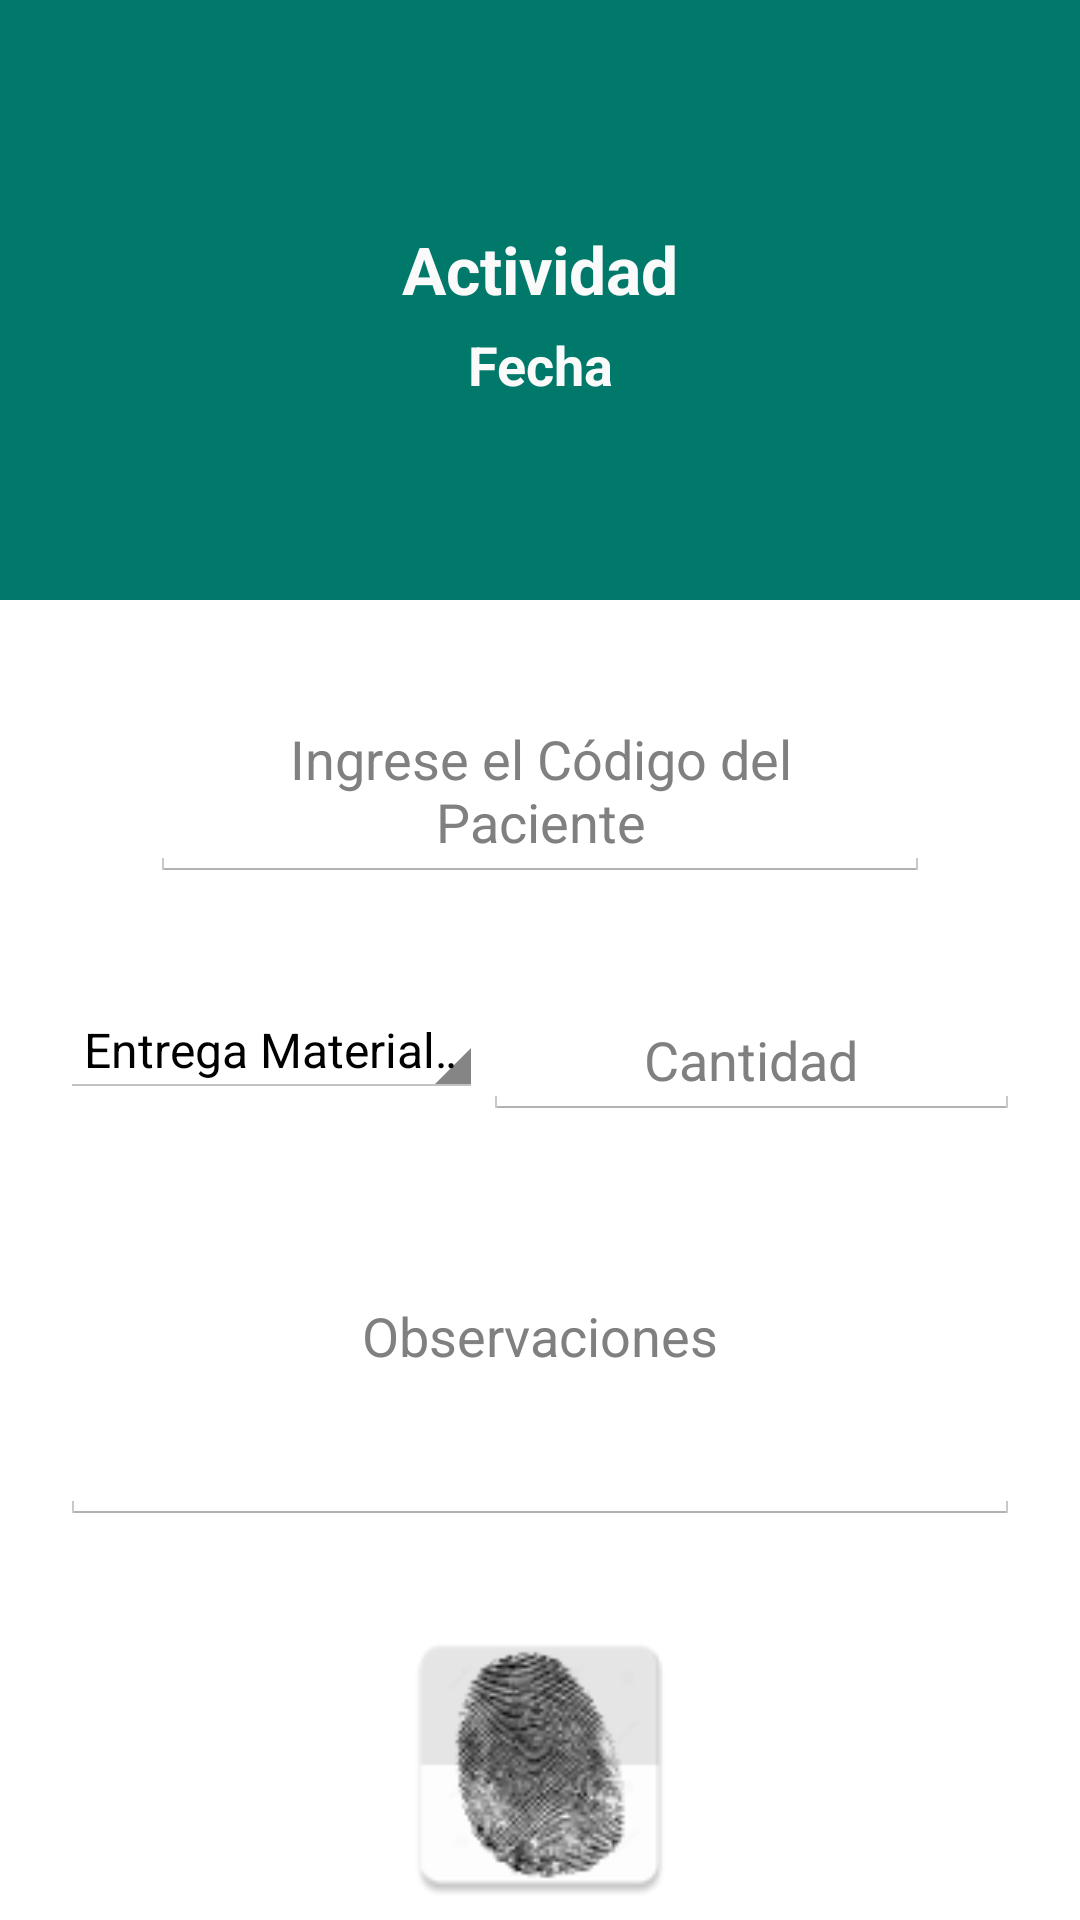

Screen size 1080w x 1920h. Icon name, then its box in pixels as [x1=x1, y1=y1, x2=x2, y2=y2]:
fingerprint: [x1=421, y1=1649, x2=661, y2=1891]
